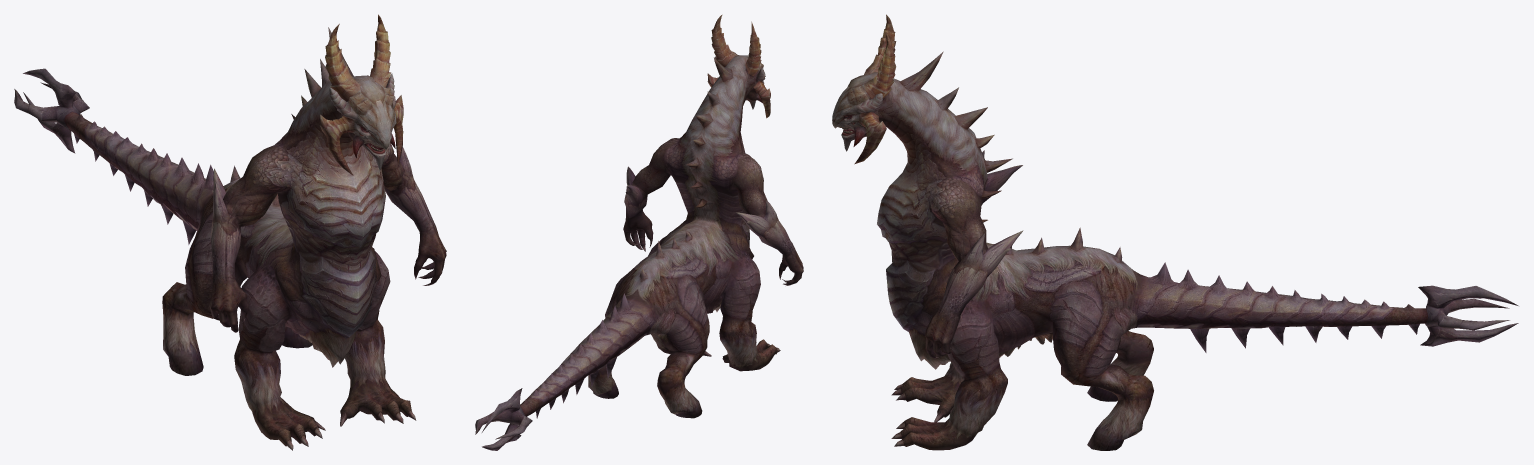
File: possessed-mantikora-overview-v1.glb
3 renders of one model, left to right at view 1: azimuth 30°, elevation 25°; view 2: azimuth 150°, elevation 25°; view 3: azimuth 270°, elevation 25°, orthographic. The views are drawn at different scales.
Parts seen in each view (by area): view 1: possessed-mantikora; view 2: possessed-mantikora; view 3: possessed-mantikora.
Part boxes in pixels (x1,y1,x2,y2): possessed-mantikora: (14, 14, 446, 450); possessed-mantikora: (475, 14, 803, 450); possessed-mantikora: (832, 14, 1518, 450).
Size of the model in its own units: 1.15 by 2 by 3.09.
1 material, 1 textured.
